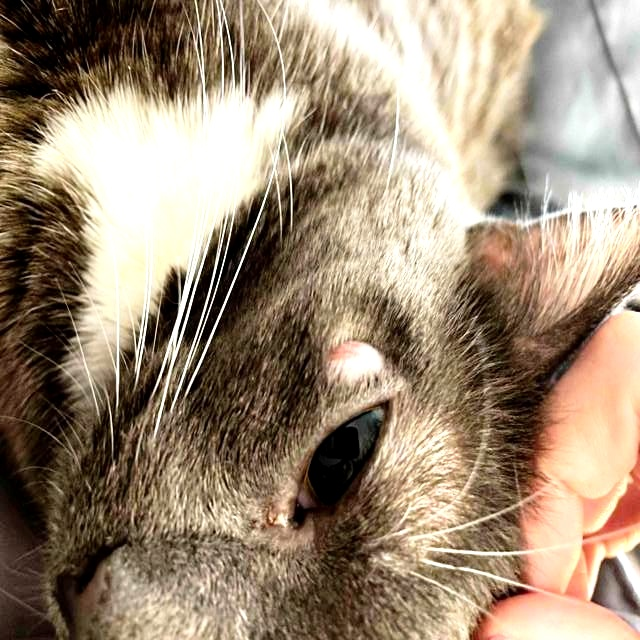lump_and_bump: (316, 342, 390, 384)
